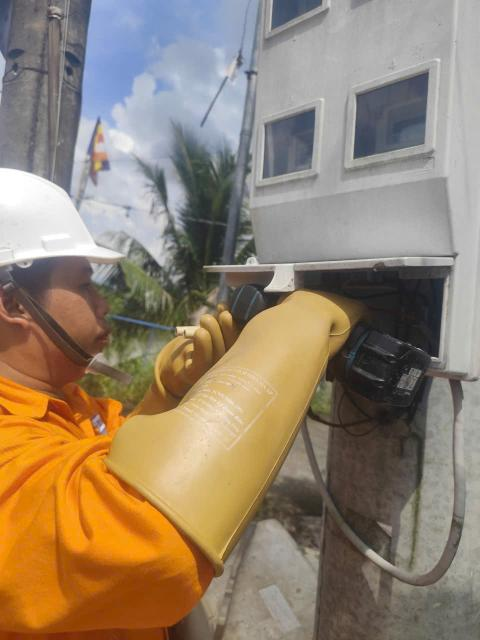gloves: (123, 278, 357, 545), (128, 313, 242, 397)
helmet: (0, 145, 128, 288)
